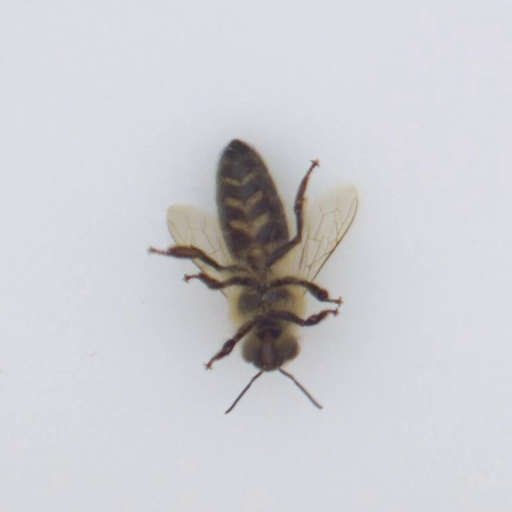Bee: (198, 136, 317, 371)
